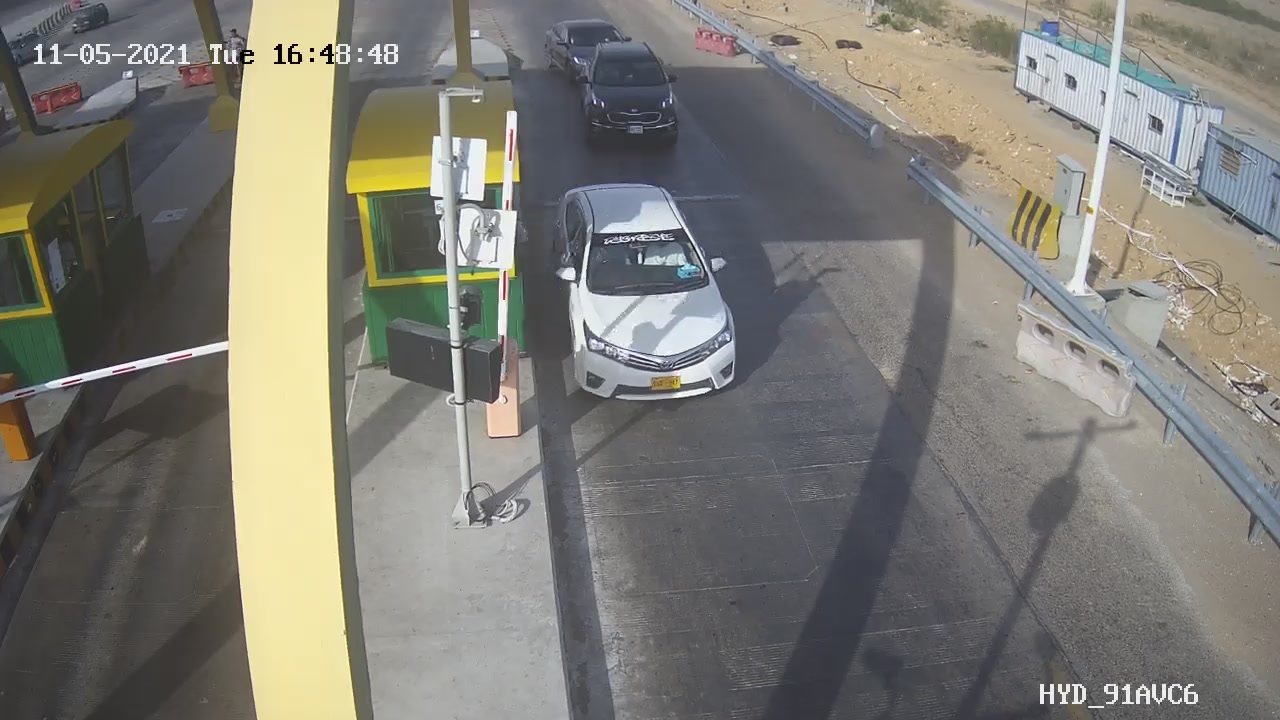F1: (538, 168, 764, 418), (566, 29, 696, 157)
